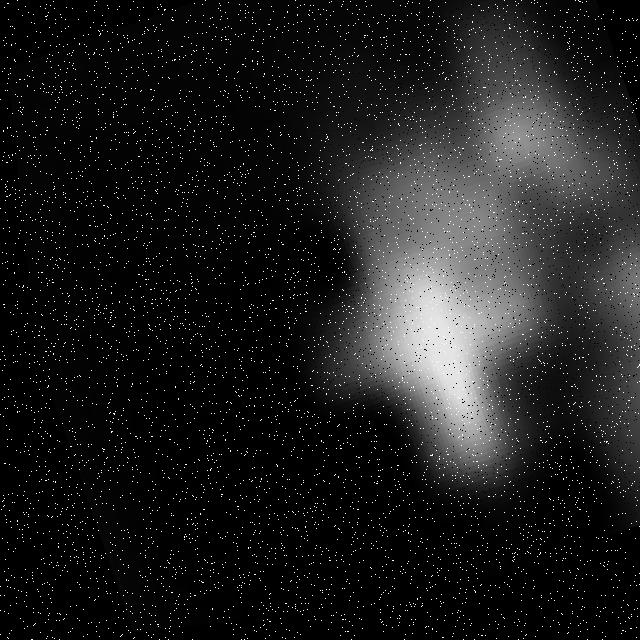person: (211, 1, 640, 623)
